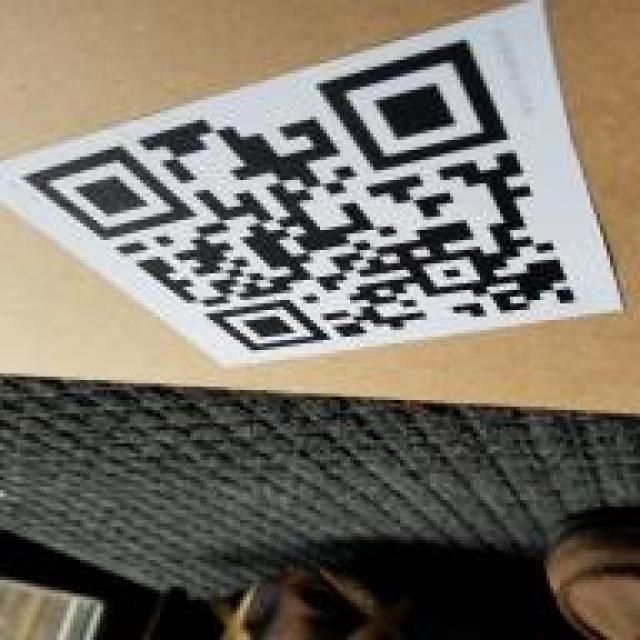QR_CODE: (13, 31, 605, 366)
